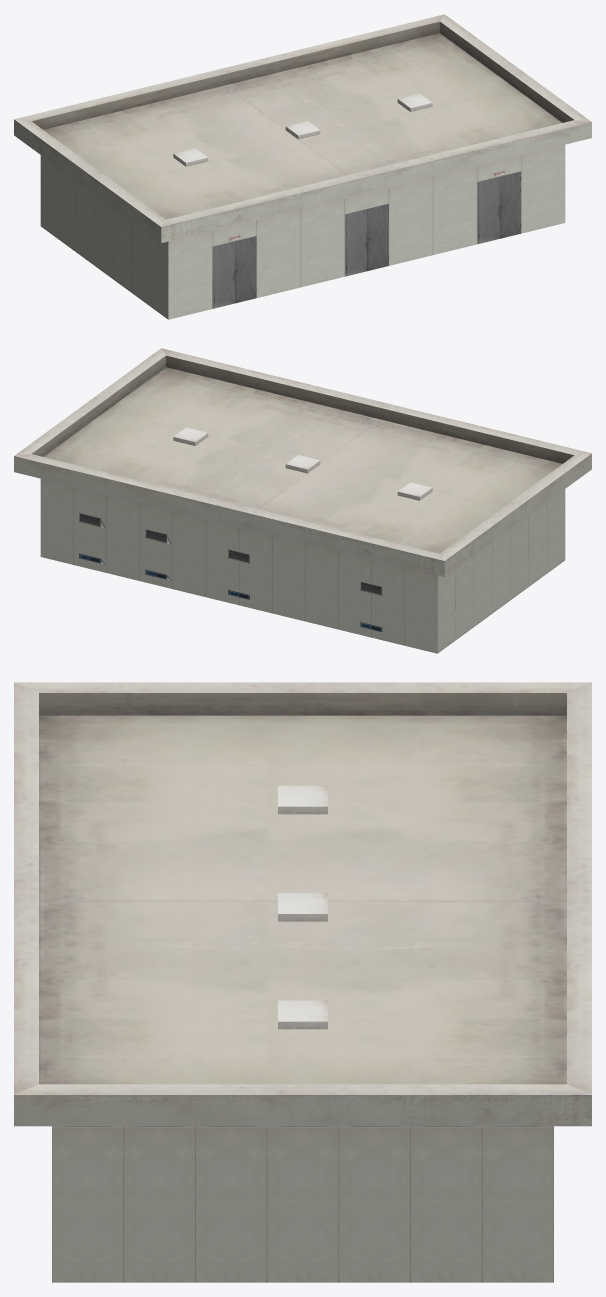
3 views of the same model, one above another, from view 1: azimuth 30°, elevation 25°; view 2: azimuth 150°, elevation 25°; view 3: azimuth 270°, elevation 25° (orthographic). The views are drawn at different scales.
Parts seen in each view (by area): view 1: MainBuilding; view 2: MainBuilding; view 3: MainBuilding.
Part boxes in pixels (x1=…): MainBuilding: x1=14, y1=14, x2=591, y2=319; MainBuilding: x1=14, y1=348, x2=591, y2=653; MainBuilding: x1=14, y1=682, x2=591, y2=1282.
Bounding box in the file's own units: 1.95 × 0.45 × 1.16.
1 material, 1 textured.
